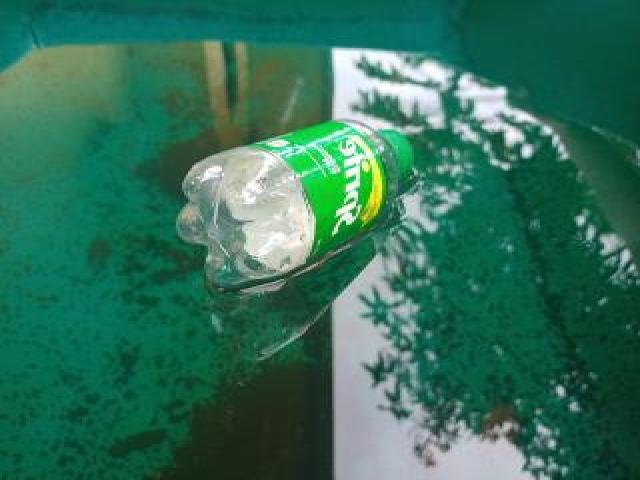Bottle: (164, 116, 439, 294)
